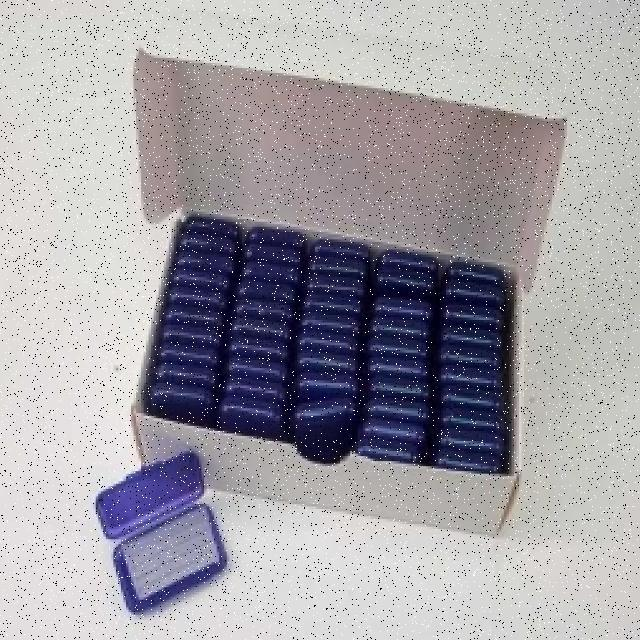box: (82, 71, 590, 541)
